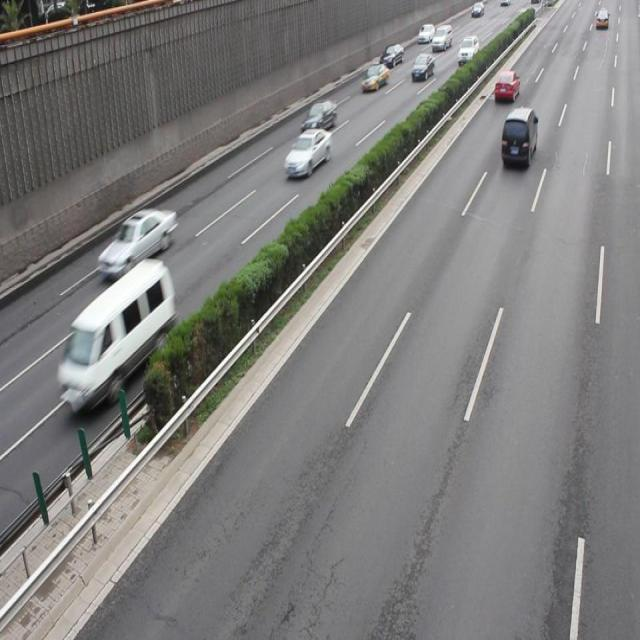car: (97, 205, 176, 279), (283, 126, 330, 179), (300, 99, 336, 133)
truck: (58, 257, 175, 411), (500, 106, 537, 169)
